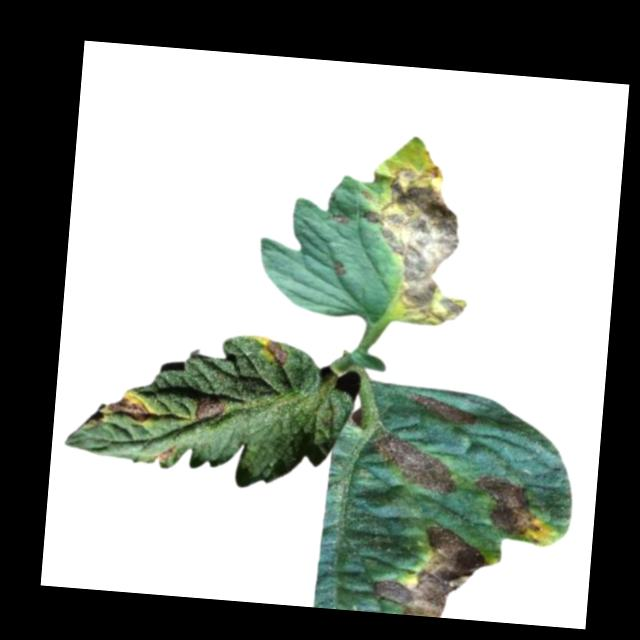Early_blight: (356, 160, 479, 328), (372, 521, 493, 620), (372, 430, 462, 499), (471, 474, 547, 543), (404, 391, 484, 430), (108, 390, 155, 427), (194, 397, 224, 426), (263, 340, 288, 368), (154, 441, 178, 466), (329, 259, 347, 278)
